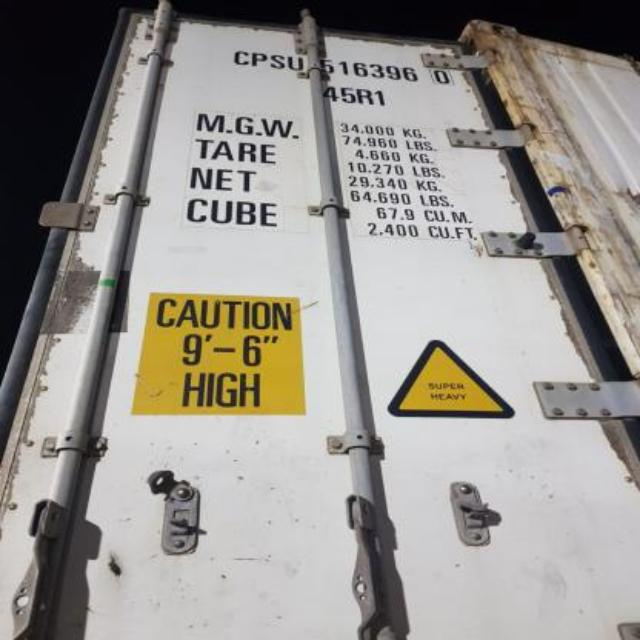0: (430, 63, 454, 87)
1: (338, 55, 350, 79)
3: (366, 57, 384, 81)
5: (320, 54, 336, 76)
6: (350, 55, 368, 79), (404, 59, 418, 85)
9: (383, 58, 401, 86)
C: (232, 44, 250, 68)
P: (251, 46, 267, 72)
S: (270, 49, 286, 75)
U: (286, 51, 304, 74)
